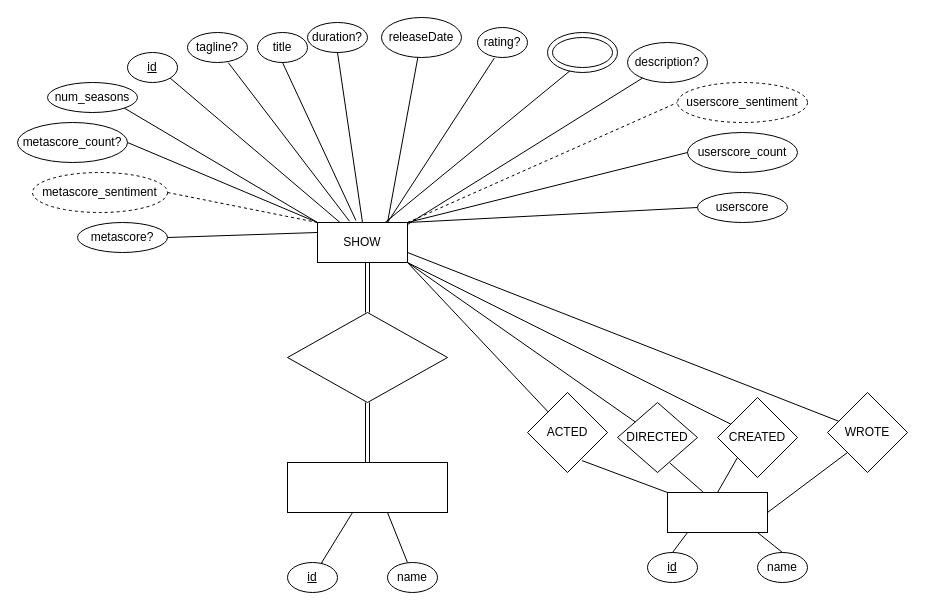
Image size: 925x610. Some labels were removed from this diagram. The shapes that lost their labels are listed below. From the top down, each one's centre as x and y in pixels, then its label:
the point at 582,52: genre
the point at 367,357: PRODUCEDBY
the point at 367,487: PRODUCTIONCOMPANY
the point at 717,512: PEOPLE
